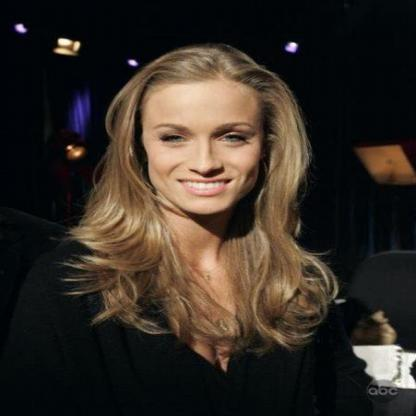long-hair: (69, 216, 315, 259)
